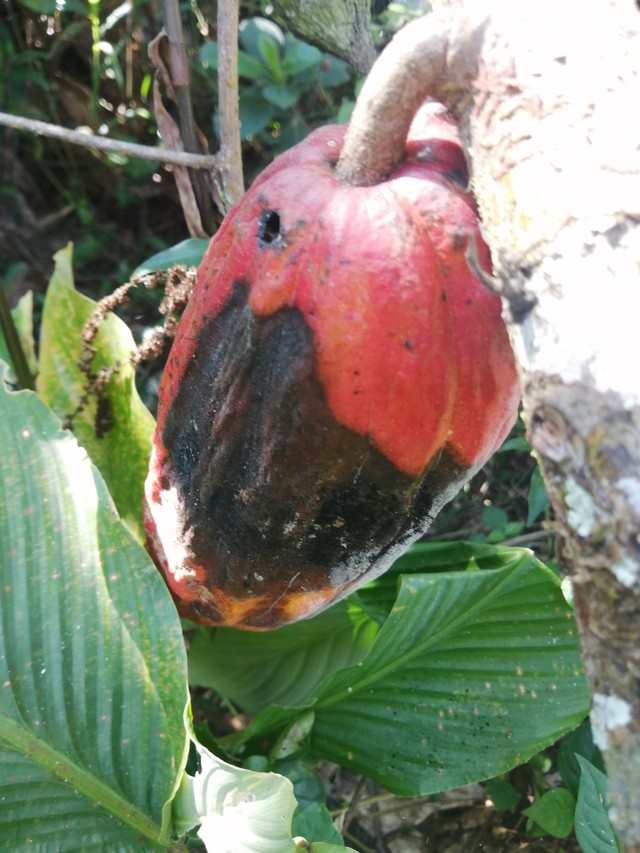moniliophthora roreri: (123, 95, 538, 640)
